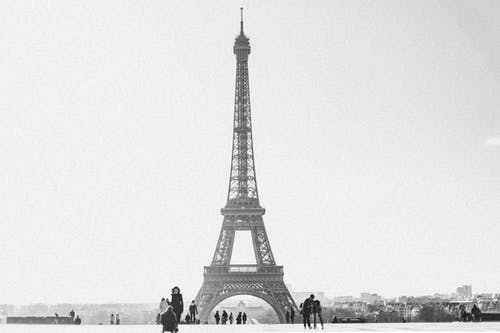eiffel tower: (187, 3, 306, 320)
